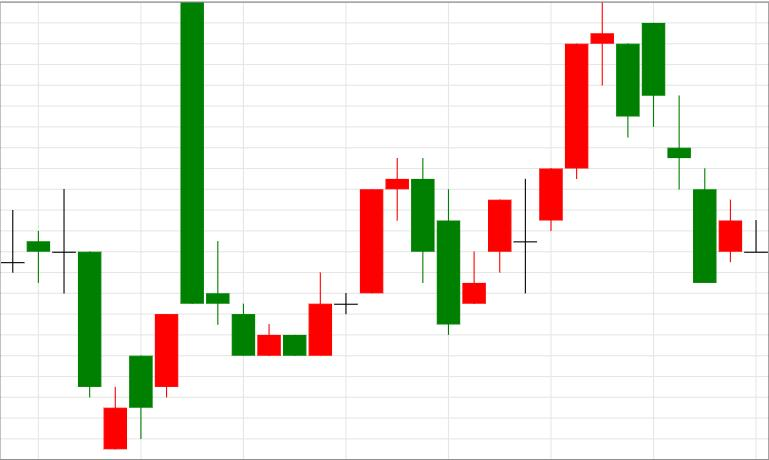bullish_engulfing_rise: (180, 3, 332, 356)
evening_star_fall: (462, 3, 639, 304)
